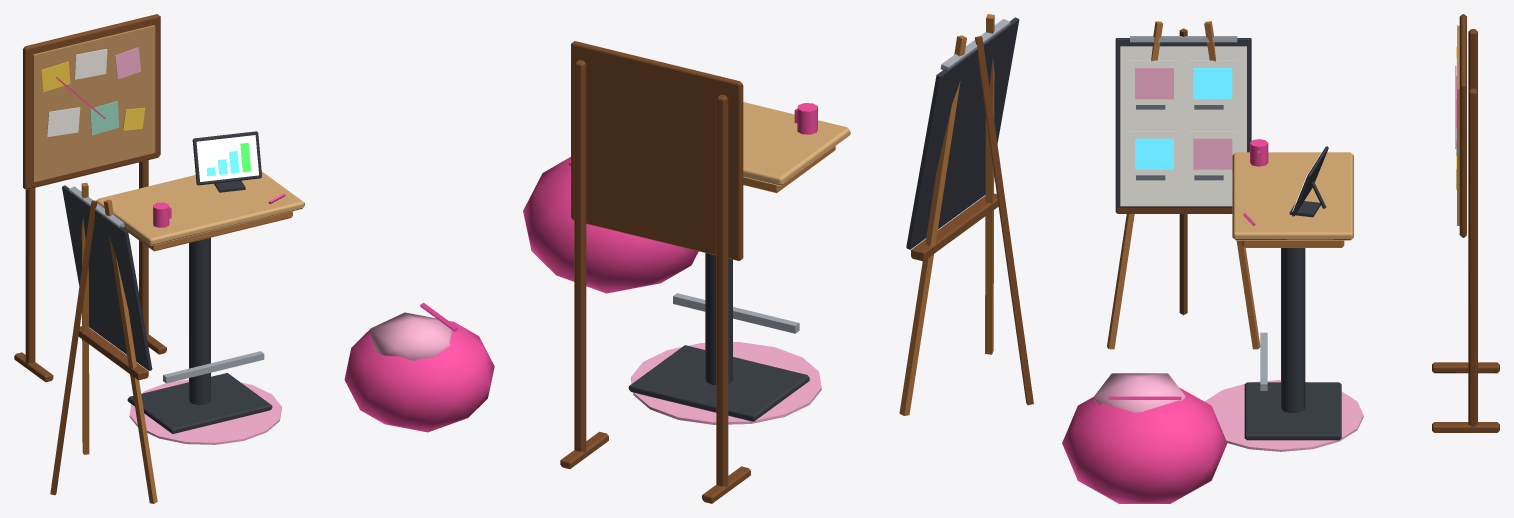
The model's file is station_intake_1.glb.
The picture shows the model from 3 angles, left to right: view 1: azimuth 30°, elevation 25°; view 2: azimuth 150°, elevation 25°; view 3: azimuth 270°, elevation 25°; orthographic projection. The views are drawn at different scales.
Parts seen in each view (by area): view 1: station_intake_1; view 2: station_intake_1; view 3: station_intake_1.
Boxes of the visible parts, x1,y1,x2,y2 form: station_intake_1: [14, 14, 494, 503]; station_intake_1: [523, 14, 1033, 503]; station_intake_1: [1062, 14, 1499, 503].
Size of the model in its own units: 2.12 by 1.6 by 1.8.
